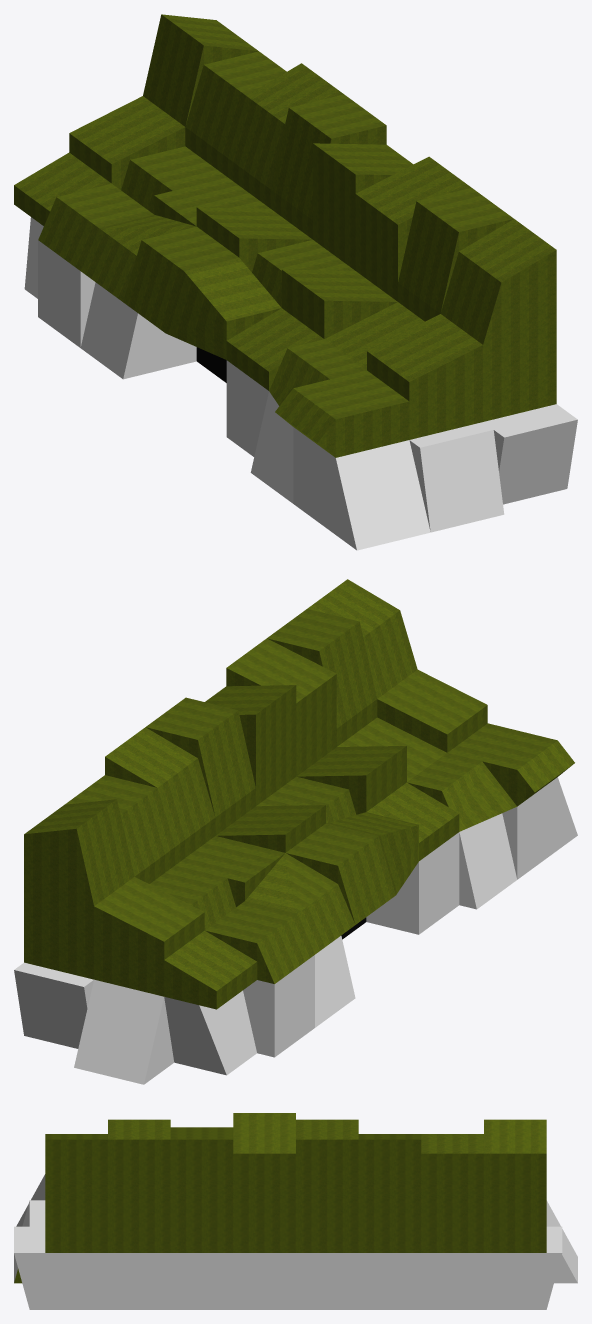
The model's file is holm dira.fbx.
3 views of the same model, one above another, from view 1: azimuth 30°, elevation 25°; view 2: azimuth 150°, elevation 25°; view 3: azimuth 270°, elevation 25° (orthographic). The views are drawn at different scales.
Parts seen in each view (by area): view 1: холмы; view 2: холмы; view 3: холмы.
Boxes of the visible parts, box(x1,y1,x2,y2) form: холмы: box(14, 14, 577, 550); холмы: box(14, 579, 577, 1084); холмы: box(14, 1113, 577, 1309).
Bounding box in the file's own units: 3250 × 3000 × 9000.
